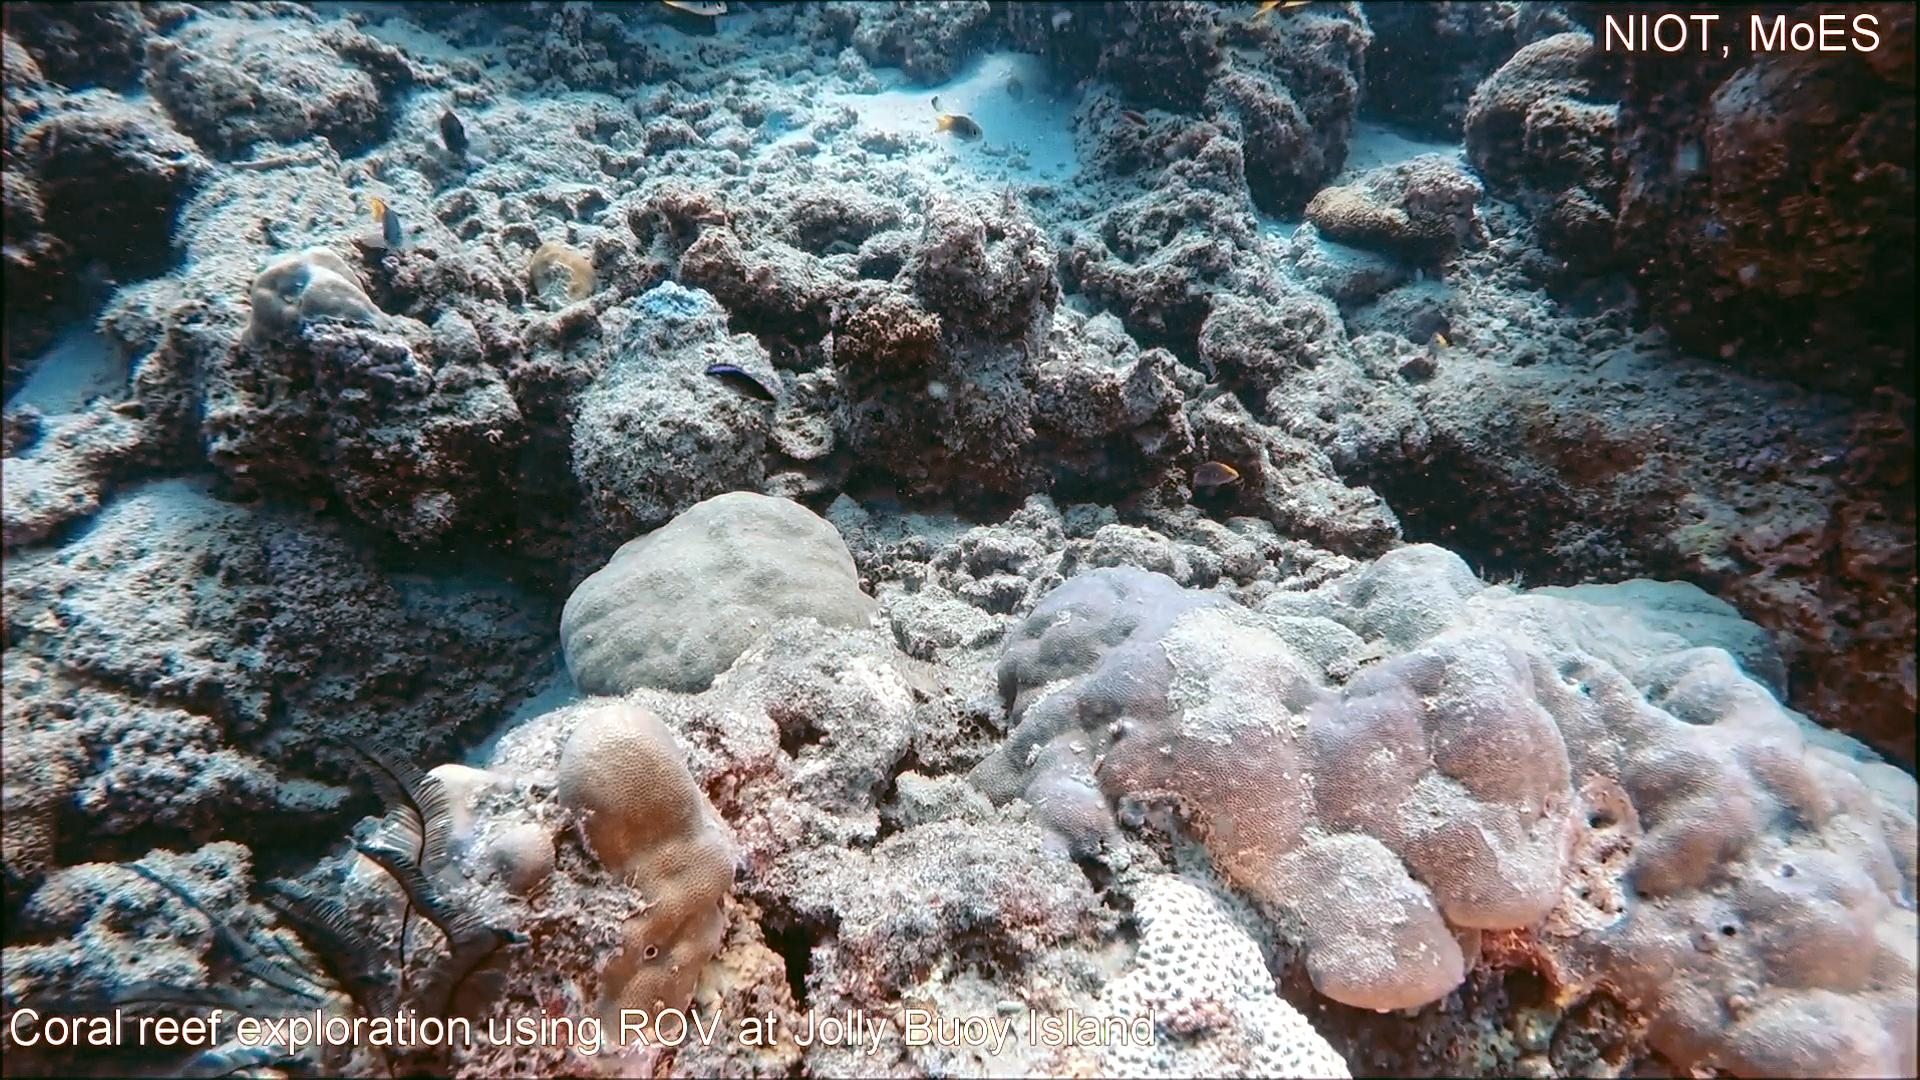Feather star-Crinoid star: (0, 720, 563, 1080)
Goniastrea-Goniastrea pectinata: (1072, 860, 1366, 1080)
Porites-Porites pukoensis: (1428, 534, 1920, 1080)
